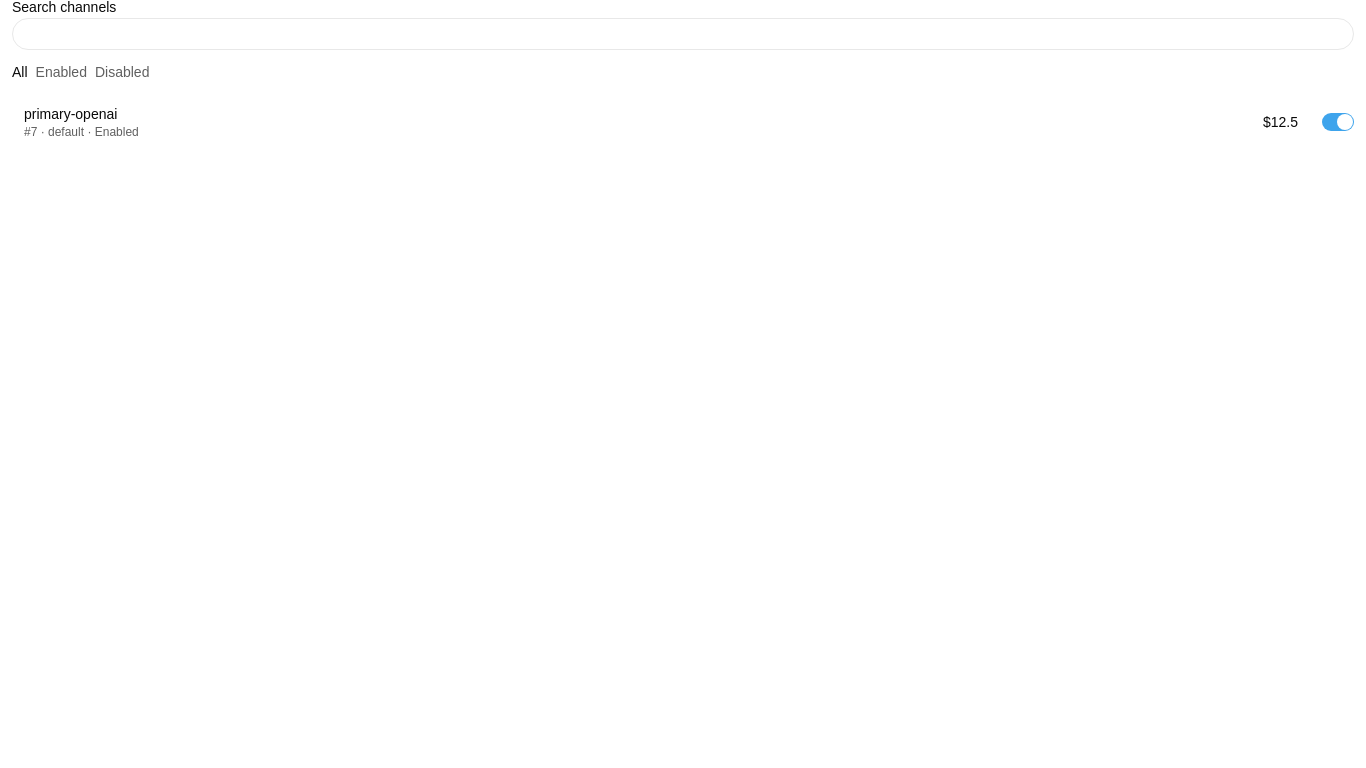
Scenario: ChannelsPage › keeps the switch on the server status and reports a rejected write
The image size is (1366, 768).
Expected: the text "primary-openai" is shown, x1=24 y1=106 x2=117 y2=122
Click the switch named "Enabled primary-openai".
click(1338, 122)  # box x1=1322 y1=113 x2=1354 y2=131
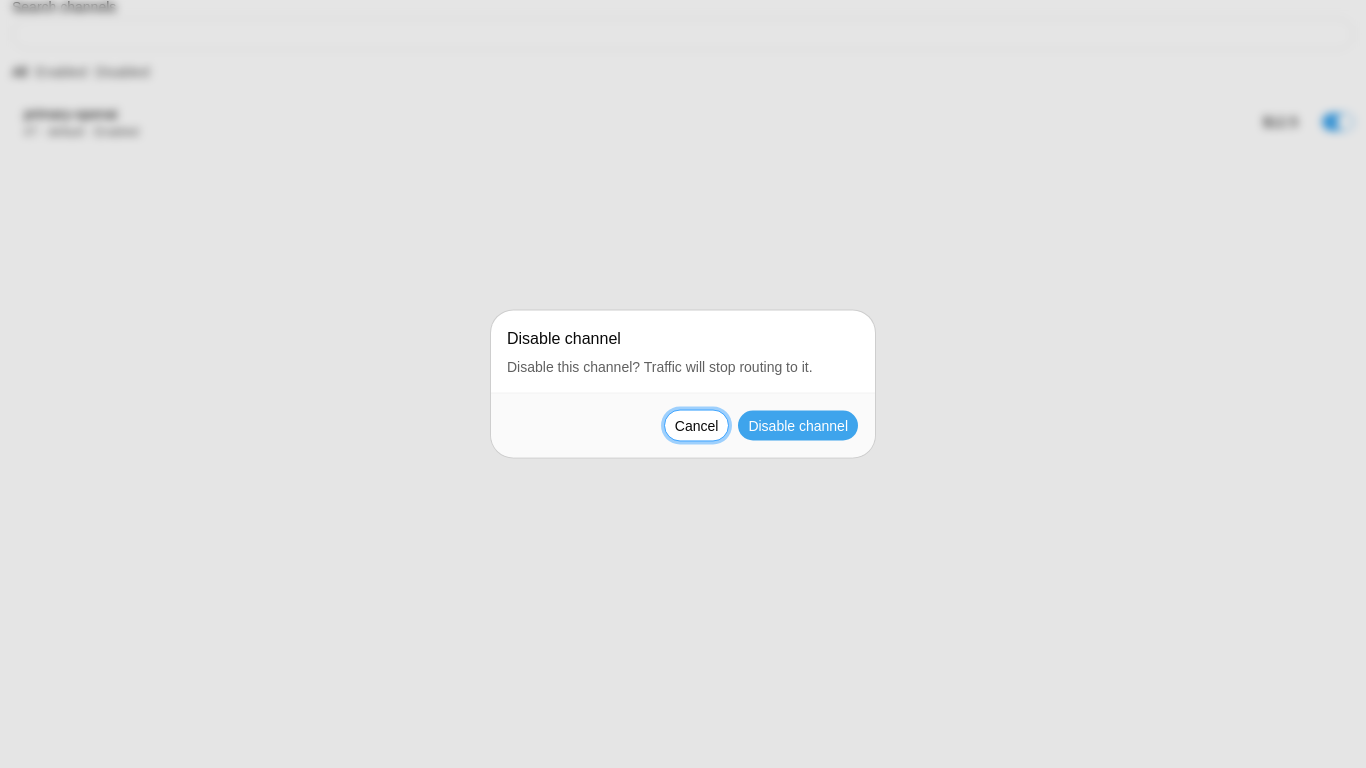
Click the button "Disable channel".
click(798, 426)  # box x1=737 y1=410 x2=859 y2=442
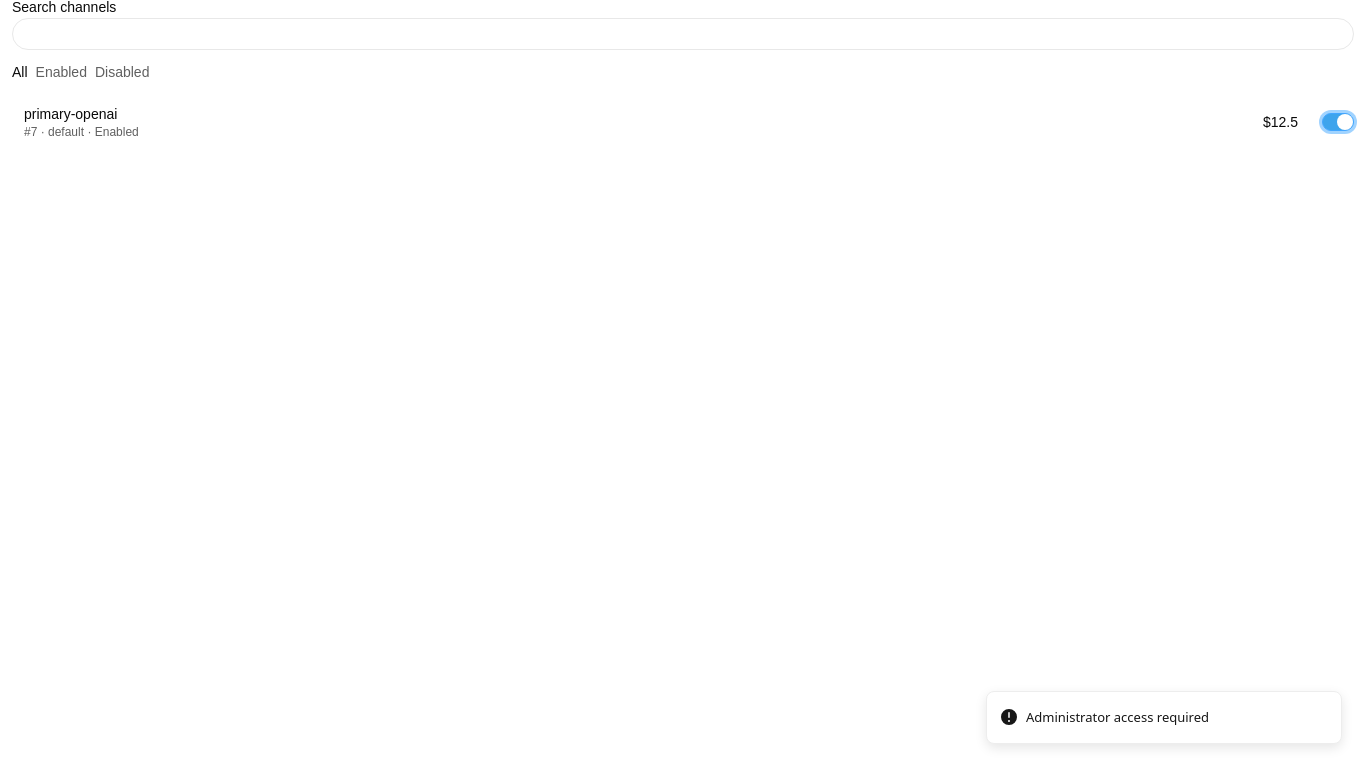
Expected: the switch named "Enabled primary-openai" is checked, x1=1322 y1=113 x2=1354 y2=131
Now the text "Administrator access required" is shown, box x1=1026 y1=708 x2=1209 y2=727
Now the dialog is gone
